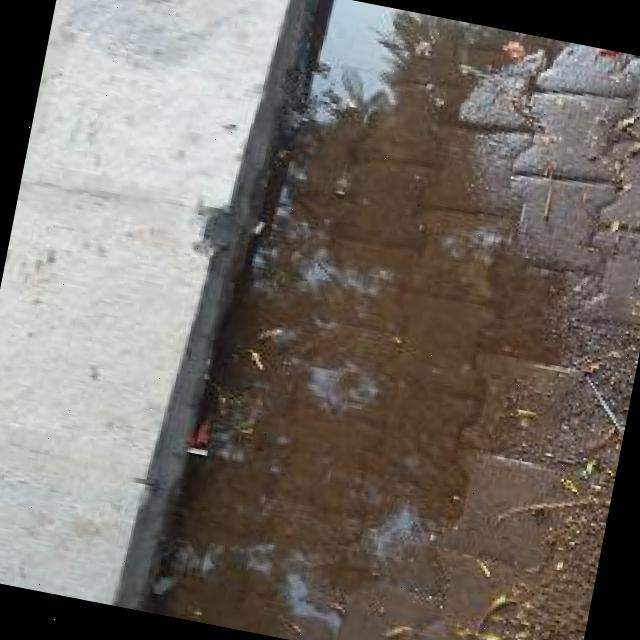stagnation: (116, 0, 555, 640)
